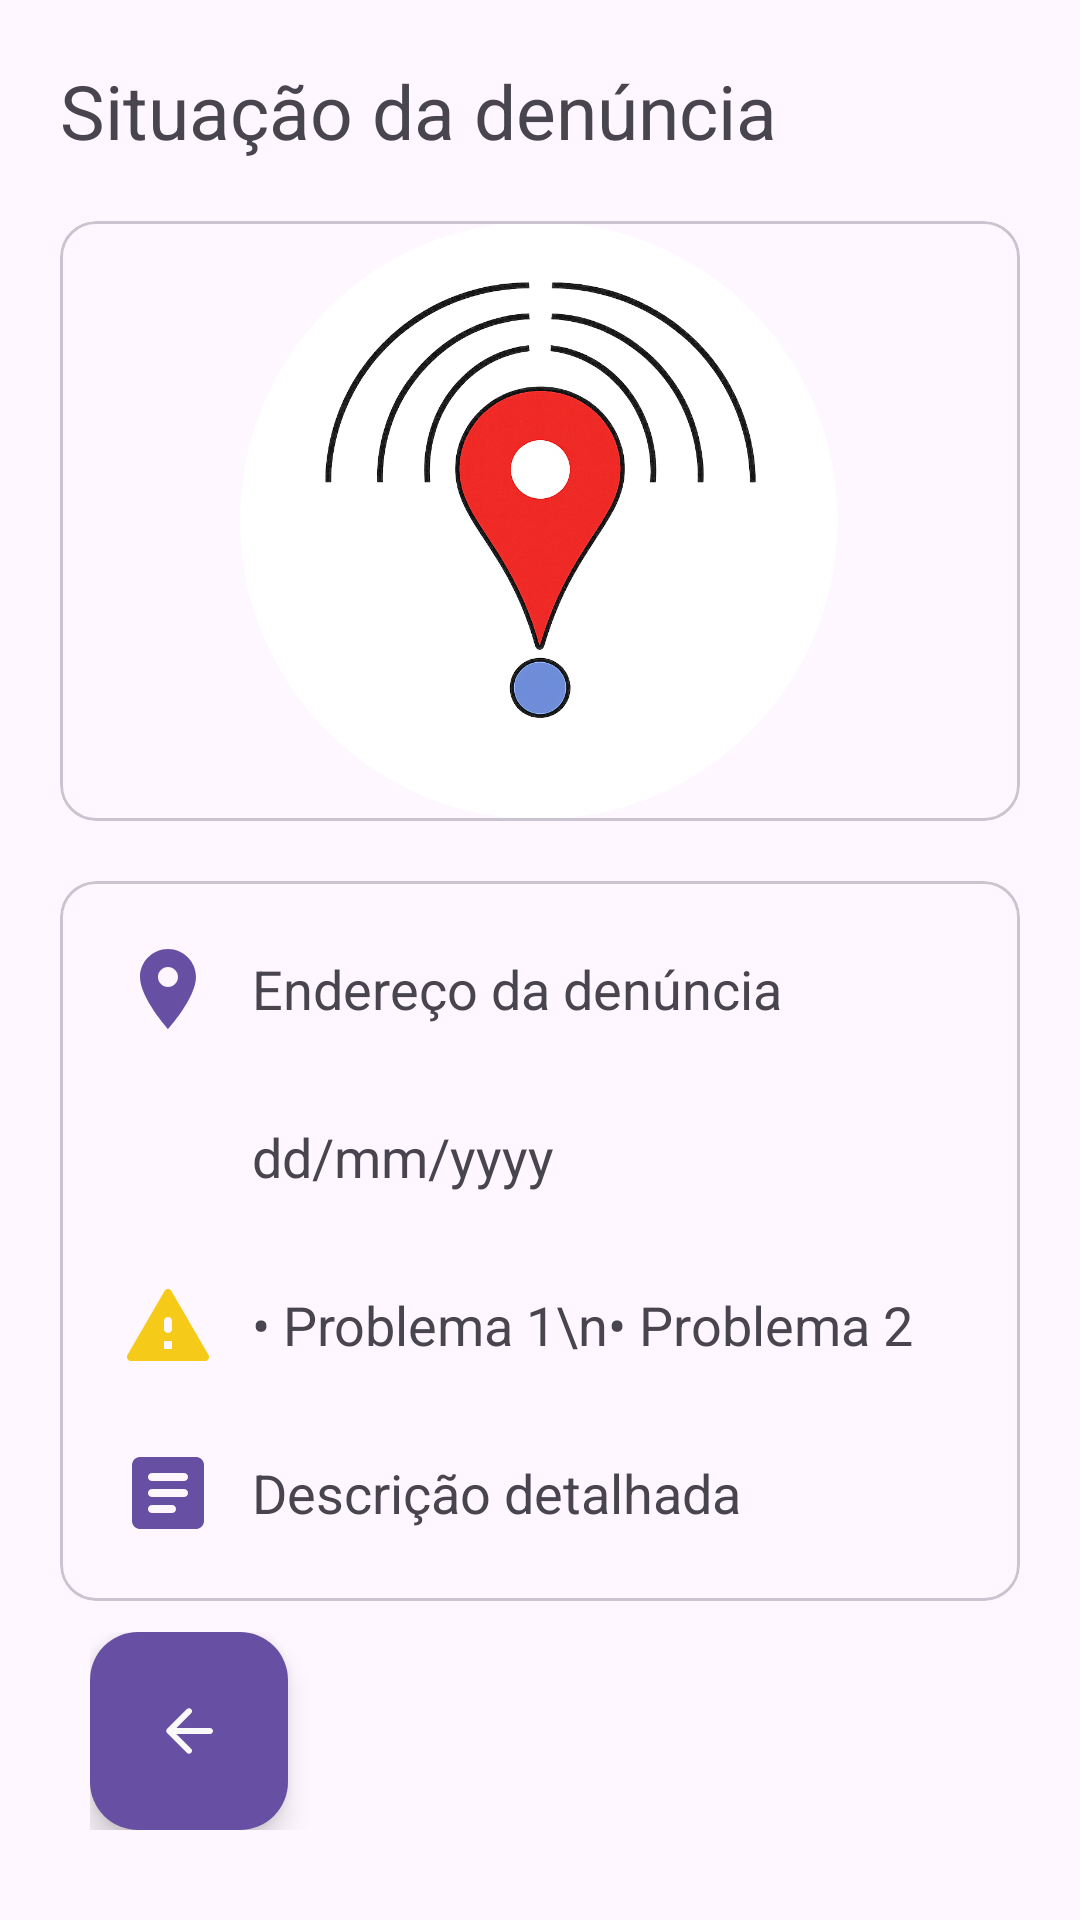

Point at icon controls on the screen. Image size 1080 x 1920, points as (x,y).
arrow back: (189,1731)
article: (168,1493)
location on: (168,989)
report problem: (168,1325)
